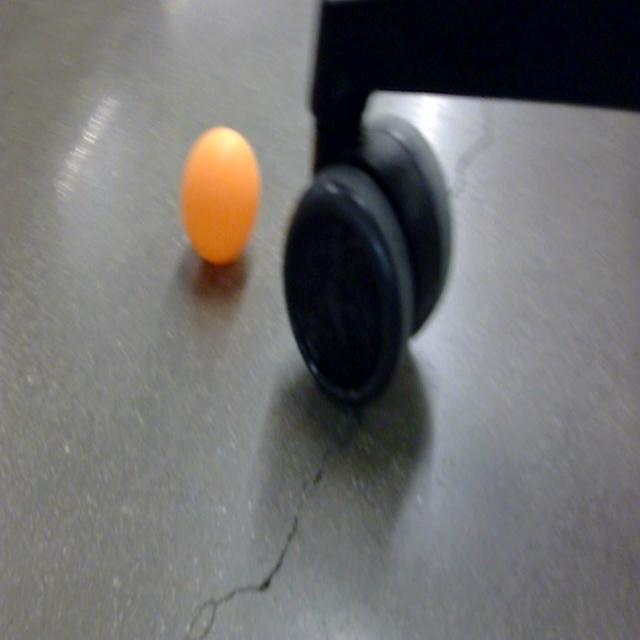ball: (178, 125, 262, 272)
